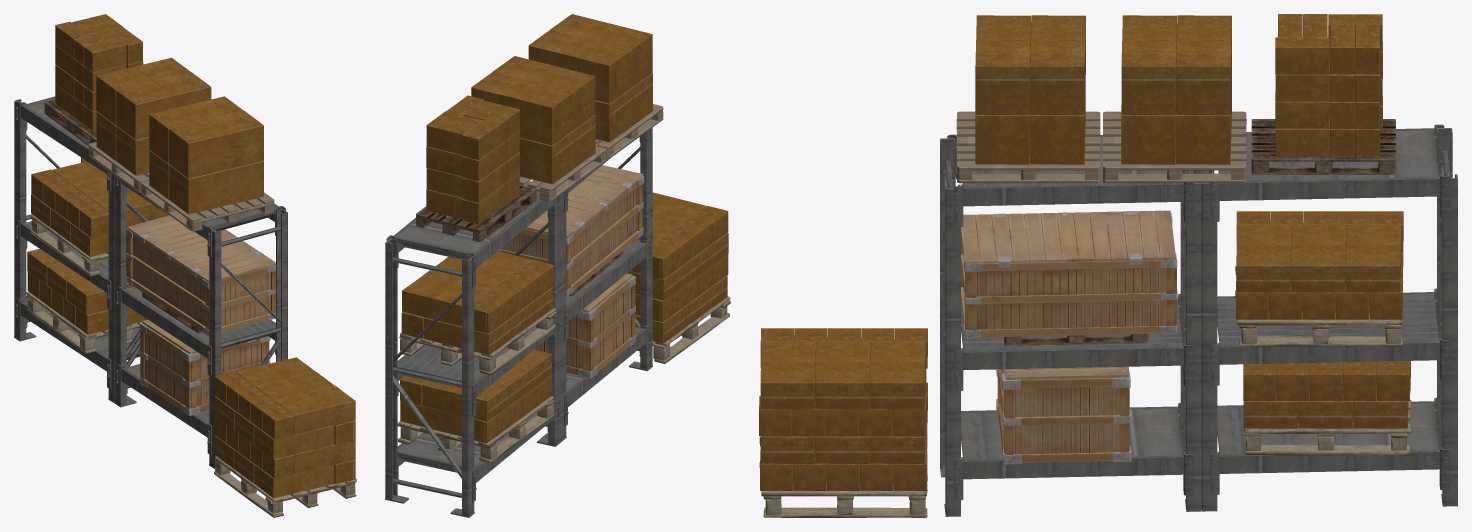
File: BoxesStacked1.fbx
3 renders of one model, left to right at view 1: azimuth 30°, elevation 25°; view 2: azimuth 150°, elevation 25°; view 3: azimuth 270°, elevation 25°, orthographic. The views are drawn at different scales.
Parts seen in each view (by area): view 1: MAP_Warehouse_Main|SM_MERGED_SM_Pallet243|Dupli|3209; view 2: MAP_Warehouse_Main|SM_MERGED_SM_Pallet243|Dupli|3209; view 3: MAP_Warehouse_Main|SM_MERGED_SM_Pallet243|Dupli|3209.
Part boxes in pixels (<box>): MAP_Warehouse_Main|SM_MERGED_SM_Pallet243|Dupli|3209: <box>14,14,356,517</box>; MAP_Warehouse_Main|SM_MERGED_SM_Pallet243|Dupli|3209: <box>385,14,730,517</box>; MAP_Warehouse_Main|SM_MERGED_SM_Pallet243|Dupli|3209: <box>759,14,1457,517</box>.
Bounding box in the file's own units: 131 × 414 × 580.
6 materials, 6 textured.
